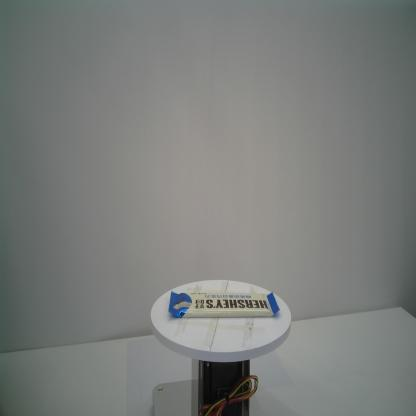Chocolate: (168, 288, 281, 318)
